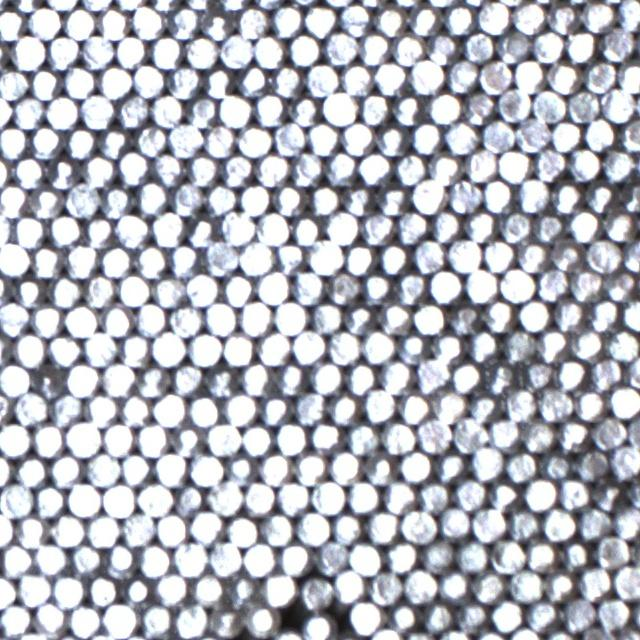tool: (172, 540, 207, 576), (66, 482, 101, 517), (599, 26, 634, 61), (410, 178, 445, 213), (322, 90, 357, 125), (120, 510, 155, 545), (137, 481, 172, 516), (310, 479, 345, 514), (381, 419, 416, 454), (84, 452, 119, 487), (412, 356, 447, 391), (382, 478, 416, 514), (82, 330, 116, 366), (208, 479, 242, 515), (225, 572, 259, 608), (416, 416, 450, 452), (168, 303, 203, 337), (102, 482, 136, 517), (409, 58, 444, 92), (255, 152, 289, 187), (295, 510, 330, 544), (256, 269, 290, 304), (585, 238, 620, 272), (31, 421, 65, 456), (359, 209, 394, 243), (205, 421, 240, 455), (503, 386, 537, 421), (585, 296, 619, 331), (66, 420, 100, 455), (47, 333, 81, 368), (400, 508, 435, 542), (298, 574, 332, 609), (65, 361, 99, 396), (495, 30, 530, 64), (152, 211, 186, 246), (560, 596, 595, 630), (433, 449, 468, 483), (14, 453, 48, 488), (208, 540, 242, 575), (220, 210, 255, 244), (169, 360, 204, 394), (489, 537, 523, 572), (191, 572, 225, 607), (14, 513, 48, 548), (428, 268, 462, 303), (33, 601, 67, 636), (367, 569, 401, 604), (601, 86, 635, 121), (115, 212, 149, 247), (587, 356, 622, 390), (471, 568, 505, 603), (463, 268, 498, 302), (364, 509, 399, 543), (260, 571, 294, 606), (314, 540, 348, 575), (451, 416, 486, 450), (239, 360, 273, 395), (242, 480, 276, 514), (151, 331, 185, 365), (512, 58, 546, 92), (269, 3, 303, 37), (446, 178, 480, 212), (558, 476, 592, 510), (501, 329, 535, 363), (204, 300, 238, 334), (260, 512, 294, 546), (506, 507, 540, 541), (497, 147, 531, 181), (50, 513, 84, 547), (219, 152, 253, 186), (523, 476, 557, 510), (117, 333, 151, 367), (221, 332, 255, 366), (274, 300, 308, 334), (309, 300, 343, 334), (482, 237, 516, 271), (67, 602, 101, 636), (470, 507, 504, 541), (346, 479, 380, 513), (378, 358, 412, 392), (276, 480, 310, 514), (184, 34, 218, 68), (448, 300, 482, 334), (326, 210, 360, 244), (257, 330, 291, 364), (605, 327, 639, 361), (64, 303, 98, 337), (226, 513, 260, 547), (344, 360, 378, 394), (116, 272, 150, 306), (429, 208, 463, 242), (169, 182, 203, 216), (576, 506, 610, 540), (346, 422, 380, 456), (304, 62, 338, 96), (293, 450, 327, 484), (583, 58, 617, 92), (601, 146, 635, 180), (64, 182, 98, 216), (448, 359, 482, 393), (323, 30, 357, 64), (174, 602, 208, 636), (602, 207, 636, 241), (307, 181, 341, 215), (384, 538, 418, 572), (480, 118, 514, 152), (189, 452, 223, 486), (432, 388, 466, 422), (221, 271, 255, 305), (512, 0, 546, 34), (236, 124, 270, 158), (398, 448, 432, 482), (16, 572, 50, 606), (49, 452, 83, 486), (373, 3, 407, 37), (427, 152, 461, 186), (574, 447, 608, 481), (242, 541, 276, 575), (420, 599, 454, 633), (420, 538, 454, 572), (278, 541, 312, 575), (291, 329, 325, 363), (448, 237, 482, 271), (154, 571, 188, 605), (203, 240, 237, 274), (293, 389, 327, 423), (85, 513, 119, 547), (185, 272, 219, 306), (289, 152, 323, 186), (444, 119, 478, 153), (99, 184, 133, 218), (374, 60, 408, 94), (508, 567, 542, 601), (578, 565, 612, 599), (348, 540, 382, 574), (48, 212, 82, 246), (393, 270, 427, 304), (208, 605, 242, 639), (167, 242, 201, 276), (68, 541, 102, 575), (102, 543, 136, 577), (524, 536, 558, 570), (274, 360, 308, 394), (520, 356, 554, 390), (168, 424, 202, 458), (463, 148, 497, 182), (308, 239, 342, 273), (546, 60, 580, 94), (572, 386, 606, 420), (461, 90, 495, 124), (385, 599, 419, 633), (244, 604, 278, 638), (152, 392, 186, 426), (238, 301, 272, 335), (338, 1, 372, 35), (11, 35, 45, 69), (520, 418, 554, 452), (514, 116, 548, 150), (166, 64, 200, 98), (567, 146, 601, 180), (332, 569, 366, 603), (596, 595, 630, 629), (189, 509, 223, 543), (558, 536, 592, 570), (486, 479, 520, 513), (556, 417, 590, 451), (363, 451, 397, 485), (594, 534, 628, 568), (603, 266, 637, 300), (328, 449, 361, 484), (31, 302, 64, 337), (327, 329, 360, 364), (45, 35, 80, 68), (583, 115, 616, 150), (549, 238, 584, 271), (135, 180, 168, 215), (363, 387, 396, 422), (437, 505, 470, 540), (516, 176, 549, 211), (116, 151, 150, 184), (28, 5, 62, 38), (103, 602, 136, 636), (81, 34, 114, 68), (102, 361, 135, 395), (453, 477, 486, 511), (154, 452, 187, 486), (119, 451, 152, 485), (324, 151, 357, 185), (256, 211, 289, 245), (272, 121, 306, 154), (306, 120, 339, 154), (304, 2, 337, 36), (258, 450, 291, 484), (133, 122, 167, 155), (479, 59, 512, 93), (29, 124, 62, 158), (358, 30, 391, 64), (331, 510, 364, 544), (82, 272, 115, 306), (287, 32, 320, 66), (395, 208, 428, 242), (100, 303, 134, 336), (30, 244, 63, 278), (308, 360, 342, 393), (531, 28, 564, 62), (133, 244, 167, 277), (533, 146, 566, 180), (81, 154, 114, 188), (456, 538, 489, 572), (538, 386, 571, 420), (549, 180, 582, 214), (45, 94, 79, 127), (204, 182, 237, 216), (378, 300, 411, 334), (32, 483, 65, 517), (477, 0, 510, 34), (358, 150, 391, 184), (80, 94, 113, 128), (564, 29, 597, 63), (532, 209, 565, 243), (409, 120, 443, 153), (152, 274, 185, 308), (445, 58, 478, 92), (482, 297, 515, 331), (271, 183, 305, 216), (275, 420, 308, 454), (167, 5, 200, 39), (498, 209, 532, 242), (13, 332, 46, 366), (28, 66, 62, 99), (500, 268, 533, 302), (408, 3, 442, 36), (361, 329, 394, 363), (150, 93, 183, 127), (184, 93, 217, 127), (375, 122, 408, 156), (376, 182, 409, 216), (349, 599, 383, 632), (536, 328, 569, 362), (570, 326, 603, 360), (412, 301, 446, 334), (426, 32, 459, 66), (172, 482, 205, 516), (442, 2, 476, 35), (329, 391, 362, 425), (270, 63, 303, 97), (482, 361, 516, 394), (201, 8, 235, 41), (84, 391, 118, 424), (135, 422, 169, 455), (0, 542, 33, 576), (497, 87, 530, 121), (187, 332, 220, 366), (62, 6, 96, 39), (455, 599, 488, 633), (436, 568, 469, 602), (225, 451, 258, 485), (525, 597, 558, 631), (118, 393, 152, 426), (397, 390, 431, 423), (205, 364, 238, 398), (412, 239, 446, 272), (15, 390, 48, 424), (114, 34, 147, 68), (567, 208, 600, 242), (541, 506, 574, 540), (240, 422, 273, 456), (403, 568, 436, 602), (137, 542, 170, 576), (223, 391, 257, 424), (12, 214, 46, 247), (62, 64, 96, 97), (584, 180, 618, 213), (290, 213, 324, 246), (592, 477, 625, 511), (239, 240, 273, 273), (466, 329, 500, 362), (427, 90, 460, 124), (12, 94, 45, 128), (542, 567, 575, 601), (341, 182, 374, 216), (608, 383, 640, 418), (168, 122, 201, 155), (253, 34, 286, 67), (131, 4, 164, 37), (219, 33, 252, 66), (202, 123, 235, 156), (134, 302, 167, 335), (549, 118, 582, 151), (97, 7, 130, 40), (470, 446, 503, 479), (150, 35, 183, 68), (461, 29, 494, 62), (33, 541, 66, 574), (393, 151, 426, 184), (253, 92, 286, 125), (48, 274, 81, 307), (115, 94, 148, 127), (396, 331, 429, 364), (359, 271, 392, 304), (431, 332, 464, 365), (309, 420, 342, 453), (99, 244, 132, 277), (29, 185, 62, 218), (64, 125, 97, 158), (532, 89, 565, 122), (341, 121, 374, 154), (535, 267, 568, 300), (490, 598, 523, 631), (50, 392, 83, 425), (82, 214, 115, 247), (340, 62, 373, 95), (486, 416, 519, 449), (139, 603, 172, 636), (517, 298, 550, 331), (591, 415, 624, 448), (287, 93, 320, 126), (259, 392, 292, 425), (566, 88, 599, 121), (12, 155, 45, 188), (274, 239, 307, 272), (236, 64, 269, 97), (187, 393, 220, 426), (121, 573, 154, 606), (186, 213, 219, 246), (12, 275, 45, 308), (482, 178, 514, 212), (156, 511, 188, 545), (52, 573, 84, 607), (218, 93, 250, 127), (0, 602, 32, 636), (102, 422, 134, 456), (152, 151, 184, 185), (358, 91, 390, 125), (552, 297, 584, 331), (132, 63, 164, 97), (505, 448, 537, 482), (292, 269, 324, 303), (136, 363, 168, 397), (238, 182, 270, 216), (186, 152, 218, 186), (344, 241, 376, 275), (569, 267, 601, 301), (538, 448, 572, 480), (392, 92, 424, 126), (467, 391, 501, 423), (0, 483, 31, 518), (0, 421, 31, 456), (609, 443, 640, 478), (547, 2, 580, 34), (581, 0, 614, 32), (554, 357, 586, 390), (326, 270, 359, 302), (46, 157, 78, 190), (464, 208, 496, 241), (98, 126, 131, 158), (64, 244, 97, 276), (236, 6, 269, 38), (418, 480, 451, 512), (378, 241, 410, 274), (86, 574, 119, 606), (98, 64, 130, 97), (33, 366, 66, 398), (516, 240, 549, 272), (202, 65, 234, 98), (343, 302, 375, 334), (392, 32, 424, 64), (0, 362, 31, 395), (0, 301, 29, 335), (611, 505, 640, 539), (0, 125, 29, 158), (0, 182, 28, 216), (0, 242, 28, 276), (300, 614, 336, 640), (613, 564, 640, 598), (0, 66, 27, 100), (0, 6, 26, 40), (616, 58, 640, 92), (615, 0, 640, 30), (618, 178, 640, 212), (619, 117, 640, 151), (621, 236, 640, 272), (622, 296, 640, 331), (581, 624, 616, 640), (624, 354, 640, 388), (0, 574, 15, 608), (0, 512, 14, 546), (0, 452, 13, 487), (0, 332, 13, 366)
